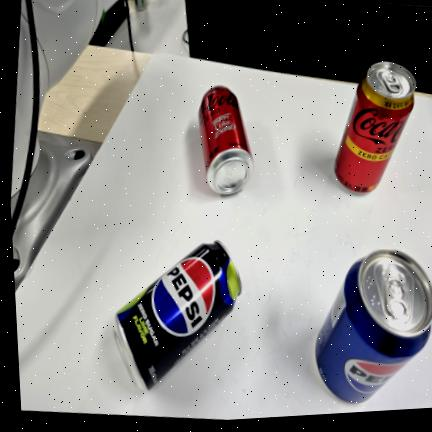can_coke_decaf: (334, 62, 416, 194)
can_coke_zero: (198, 86, 254, 195)
can_pepsi: (315, 248, 432, 403)
can_pepsi_zero: (115, 241, 241, 391)
